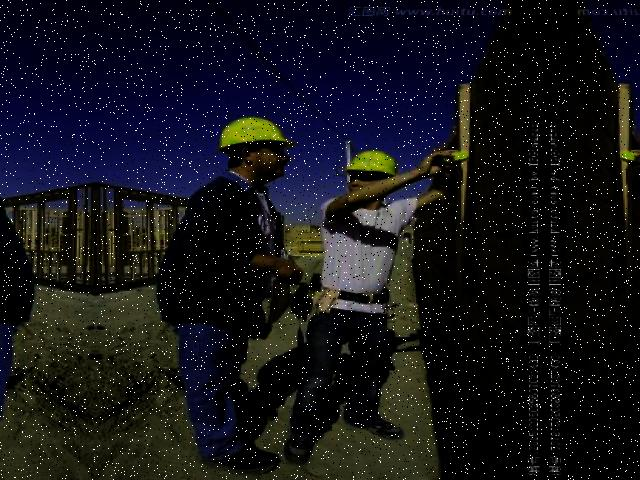Helmet: (214, 111, 298, 164), (338, 148, 400, 180)
